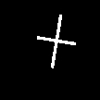single_crochet: (37, 15, 75, 67)
